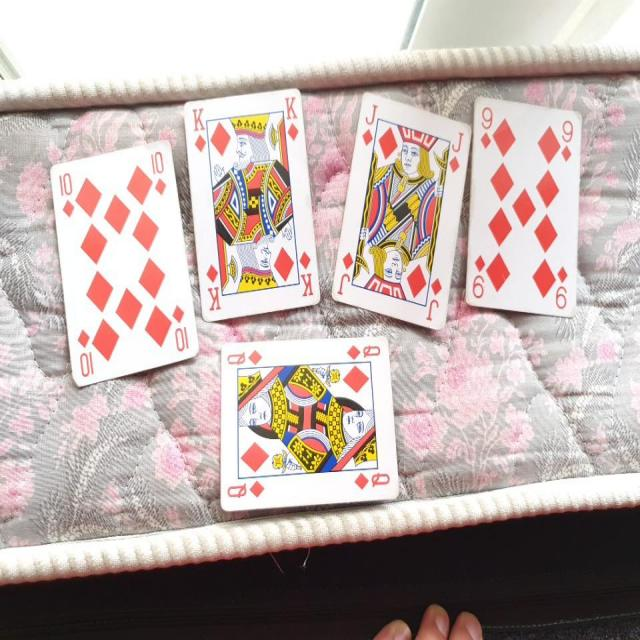10 Diamonds: (48, 137, 200, 388)
9 Diamonds: (464, 96, 582, 317)
J Diamonds: (329, 89, 472, 332)
K Diamonds: (182, 87, 322, 323)
Q Diamonds: (218, 333, 401, 512)
